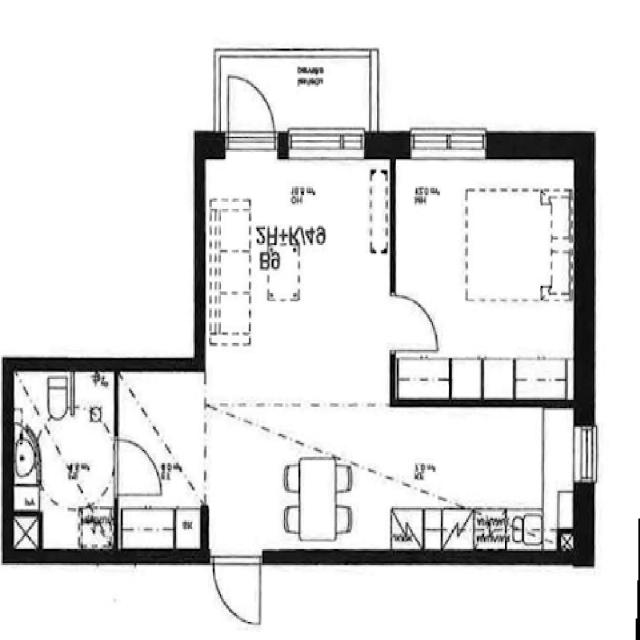door: (229, 73, 275, 159), (214, 551, 260, 626), (390, 296, 439, 351), (114, 441, 160, 495)
